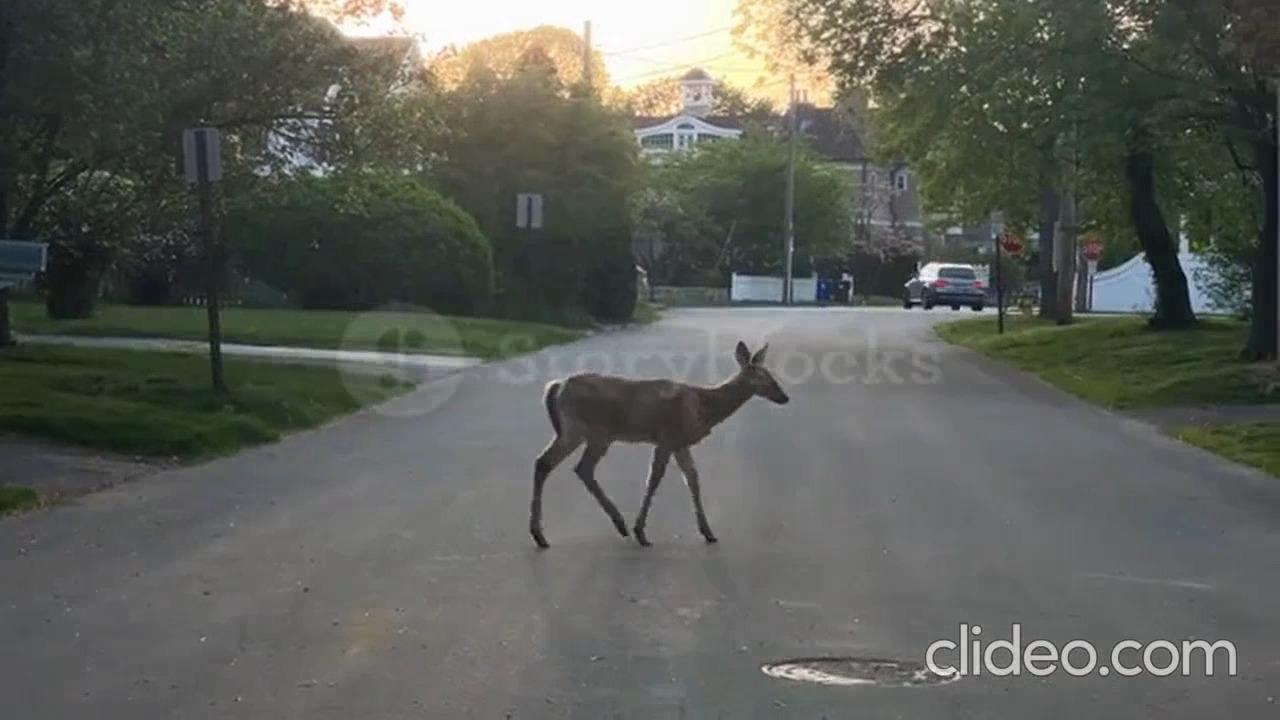deer: (520, 328, 792, 556)
